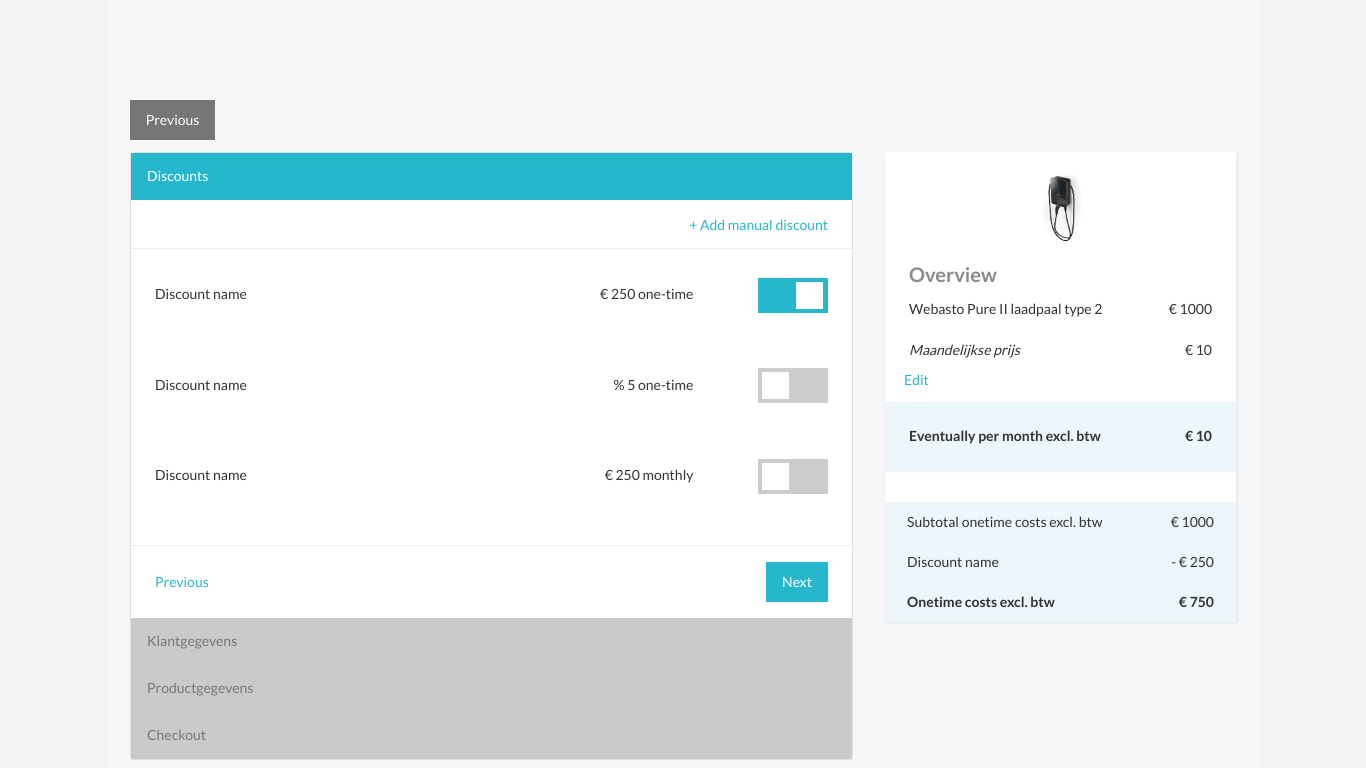
DiscountsPage › updates the total when a discount is toggled
Click the 2nd checkbox: [764, 380] box left=758, top=374, right=771, bottom=386
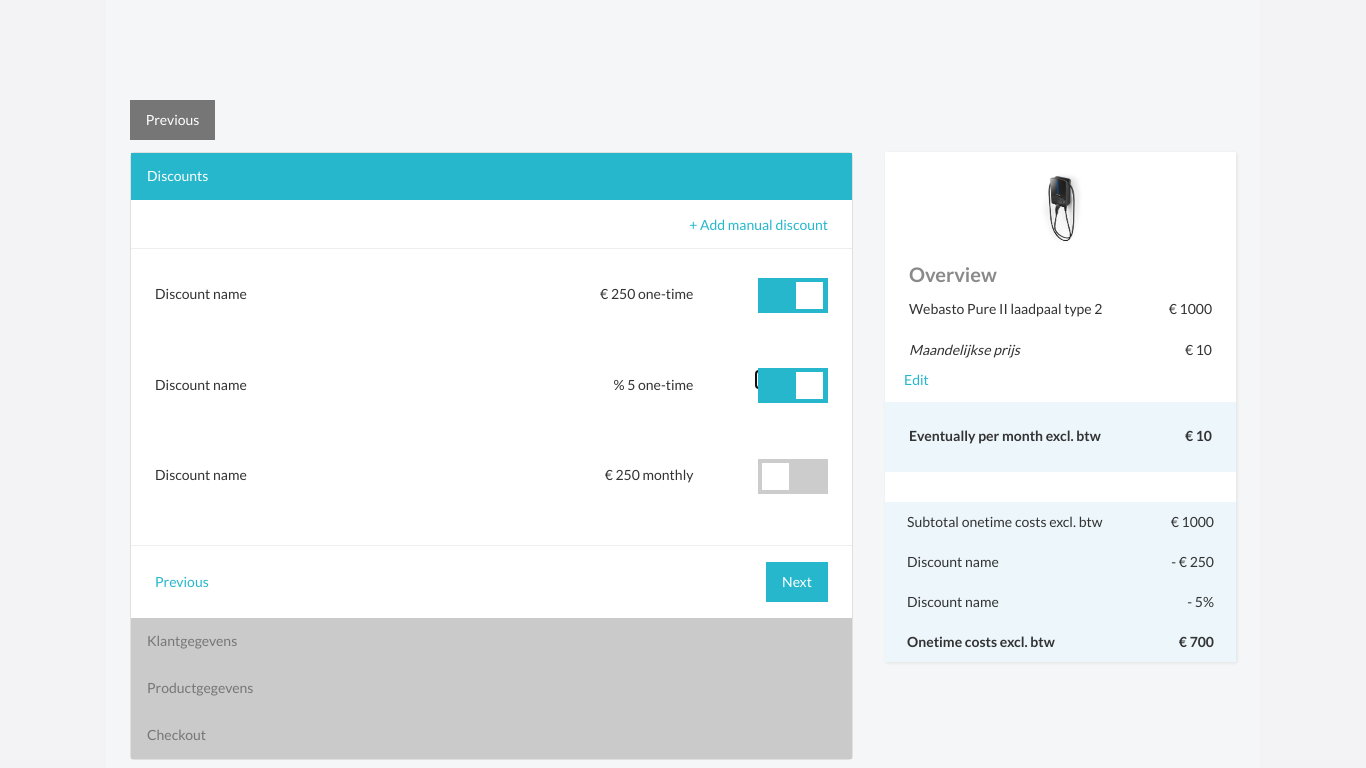
Check: the text "€ 700" is shown, box left=1179, top=633, right=1214, bottom=650
